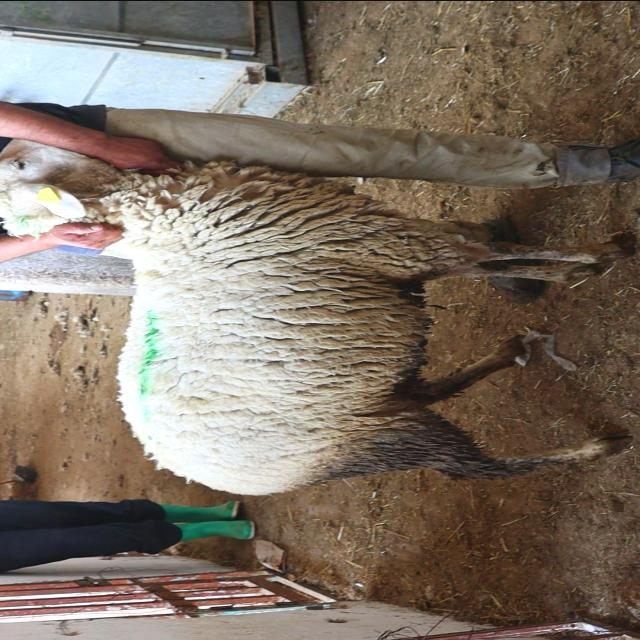Score_5: (0, 140, 631, 494)
